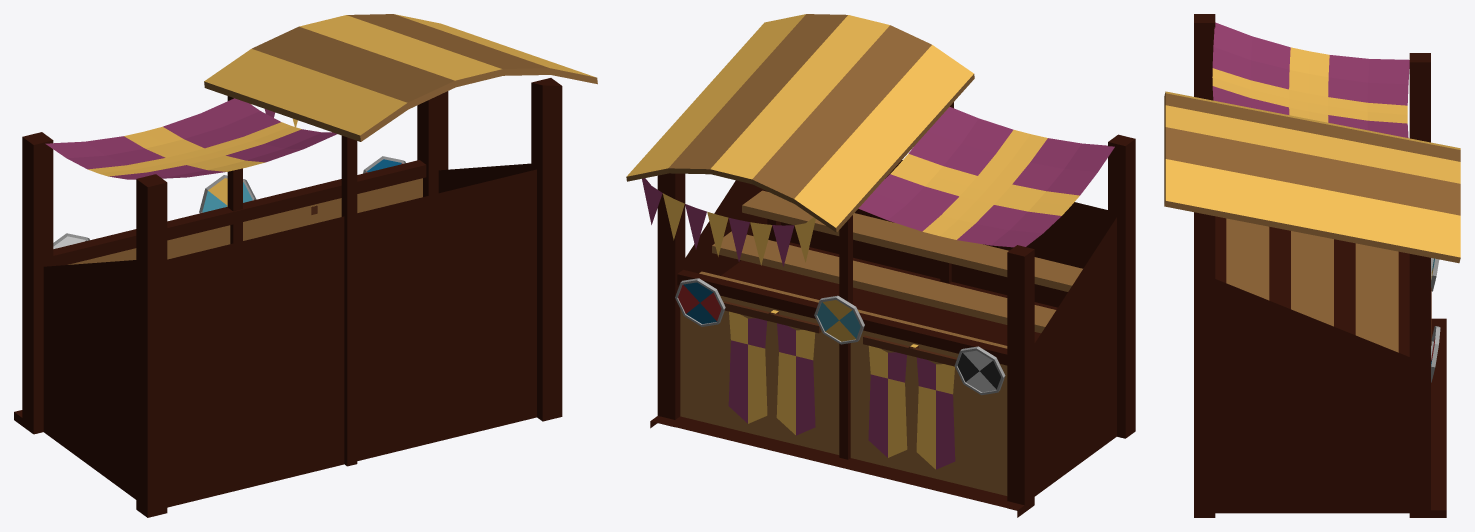
Rendered from TarimaMykker.fbx.
3 renders of one model, left to right at view 1: azimuth 30°, elevation 25°; view 2: azimuth 150°, elevation 25°; view 3: azimuth 270°, elevation 25°, orthographic. The views are drawn at different scales.
Visible parts, largest first — view 1: Tarima.002; view 2: Tarima.002; view 3: Tarima.002.
Part boxes in pixels (left/top/right/bottom): Tarima.002: left=14, top=14, right=597, bottom=517; Tarima.002: left=626, top=14, right=1135, bottom=517; Tarima.002: left=1164, top=14, right=1460, bottom=517.
Size of the model in its own units: 550 by 456 by 344.
